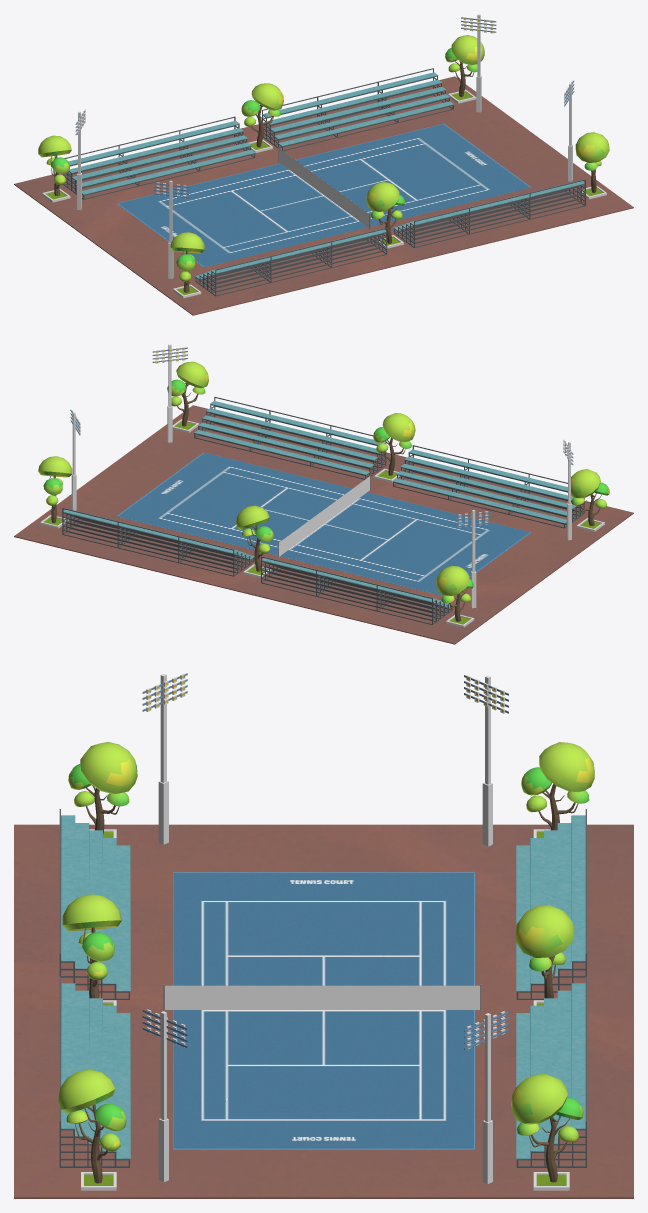
Rendered from Cartoon_tenniscourtfbx.fbx.
The picture shows the model from 3 angles, top to bottom: view 1: azimuth 30°, elevation 25°; view 2: azimuth 150°, elevation 25°; view 3: azimuth 270°, elevation 25°; orthographic projection. The views are drawn at different scales.
Visible parts, largest first — view 1: tennis_courtfloor, tenniscourt, basketball_tribune, tree11, stadiumled, tennisnet, flower_bed2; view 2: tennis_courtfloor, tenniscourt, basketball_tribune, tree11, stadiumled, tennisnet, flower_bed2; view 3: tennis_courtfloor, tenniscourt, basketball_tribune, tree11, stadiumled, tennisnet, flower_bed2.
Boxes of the visible parts, <box> form: tennis_courtfloor: <box>14,76,633,315</box>; tenniscourt: <box>116,123,530,267</box>; basketball_tribune: <box>63,68,585,296</box>; tree11: <box>38,35,609,292</box>; stadiumled: <box>75,14,574,278</box>; tennisnet: <box>278,147,370,229</box>; flower_bed2: <box>42,89,606,298</box>; tennis_courtfloor: <box>14,405,633,644</box>; tenniscourt: <box>116,452,530,595</box>; basketball_tribune: <box>62,397,584,624</box>; tree11: <box>38,361,609,621</box>; stadiumled: <box>70,344,573,608</box>; tennisnet: <box>278,475,370,557</box>; flower_bed2: <box>40,419,604,627</box>; tennis_courtfloor: <box>14,824,633,1198</box>; tenniscourt: <box>173,872,474,1149</box>; basketball_tribune: <box>59,809,586,1167</box>; tree11: <box>58,742,594,1183</box>; stadiumled: <box>142,673,508,1183</box>; tennisnet: <box>163,984,482,1011</box>; flower_bed2: <box>81,829,569,1190</box>.
Size of the model in its own units: 3203 by 708 by 2250.
7 materials, 7 textured.
